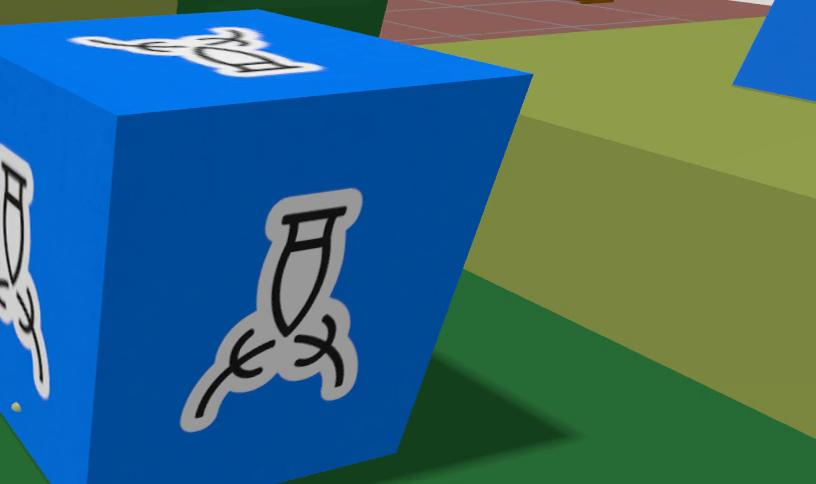KFS_REAL: (0, 9, 530, 484), (180, 189, 362, 432), (70, 27, 323, 76), (0, 144, 48, 398)
